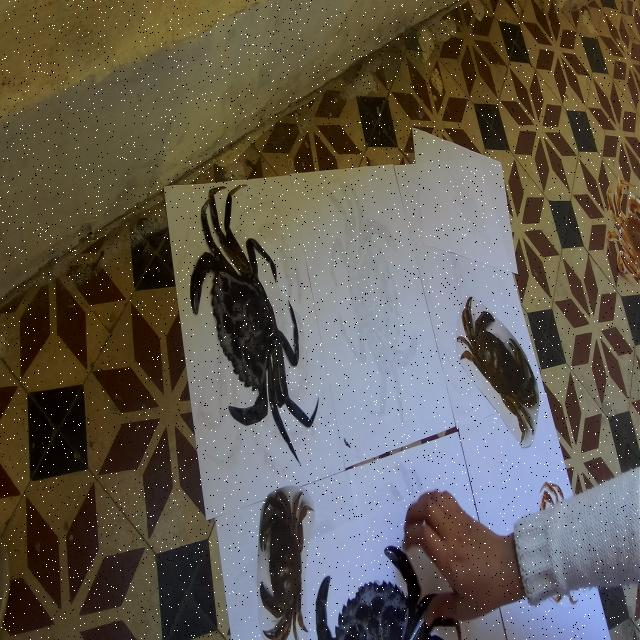European_Green_Crab: (167, 158, 336, 508), (0, 0, 0, 1)
